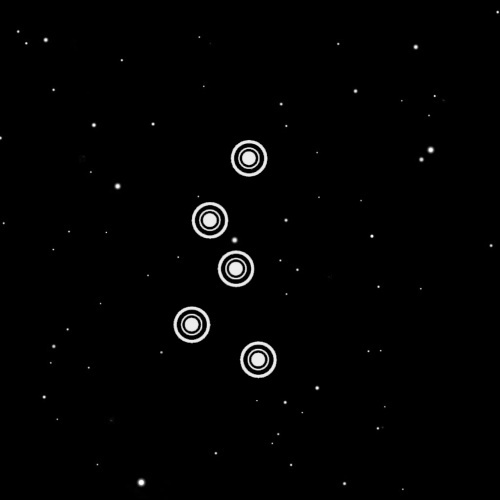cassiopeia: (163, 124, 297, 394)
